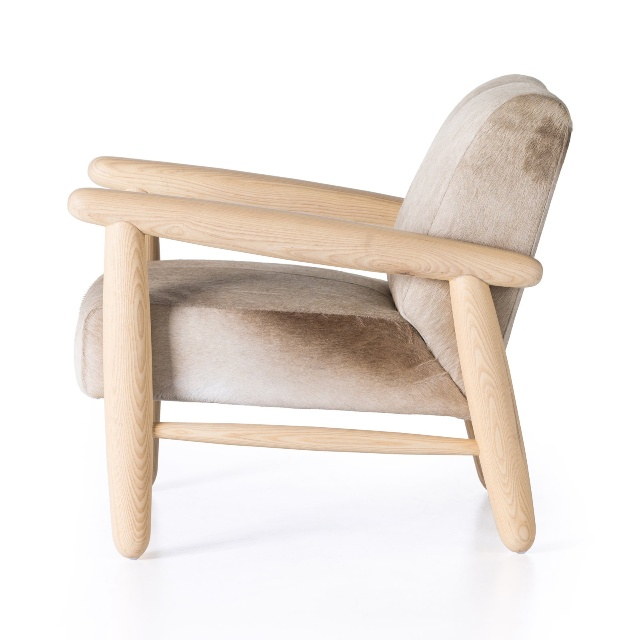obstacle: (69, 75, 571, 558)
